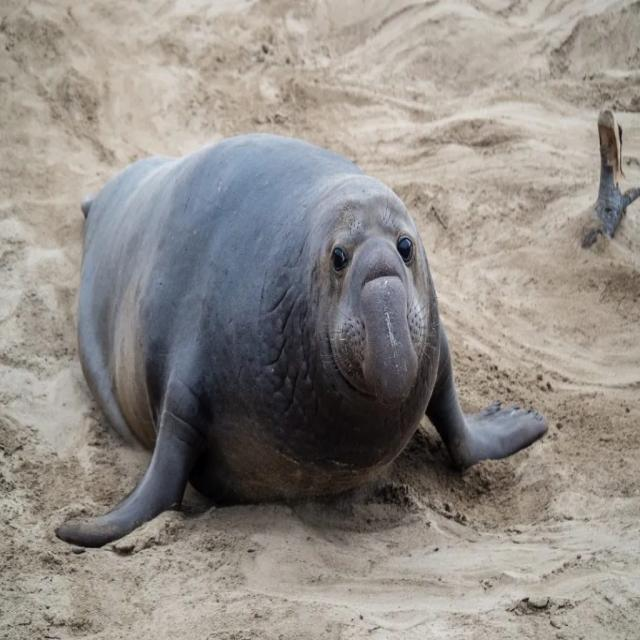walrus: (42, 91, 590, 572)
